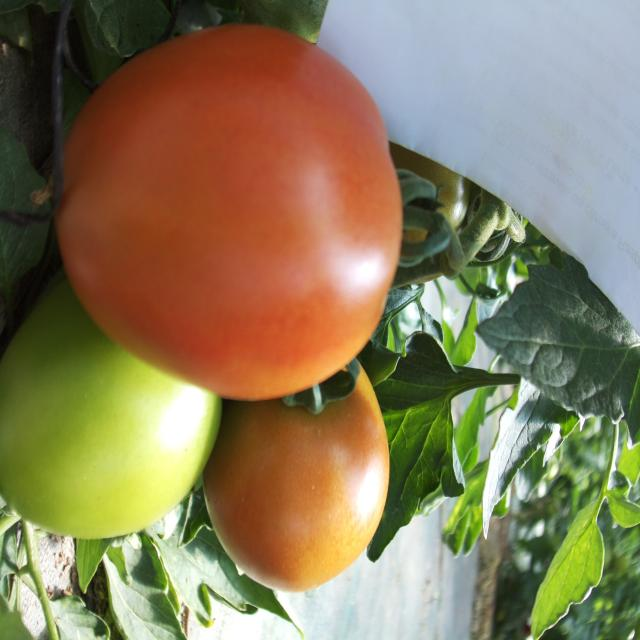kirmizi: (3, 40, 436, 398)
